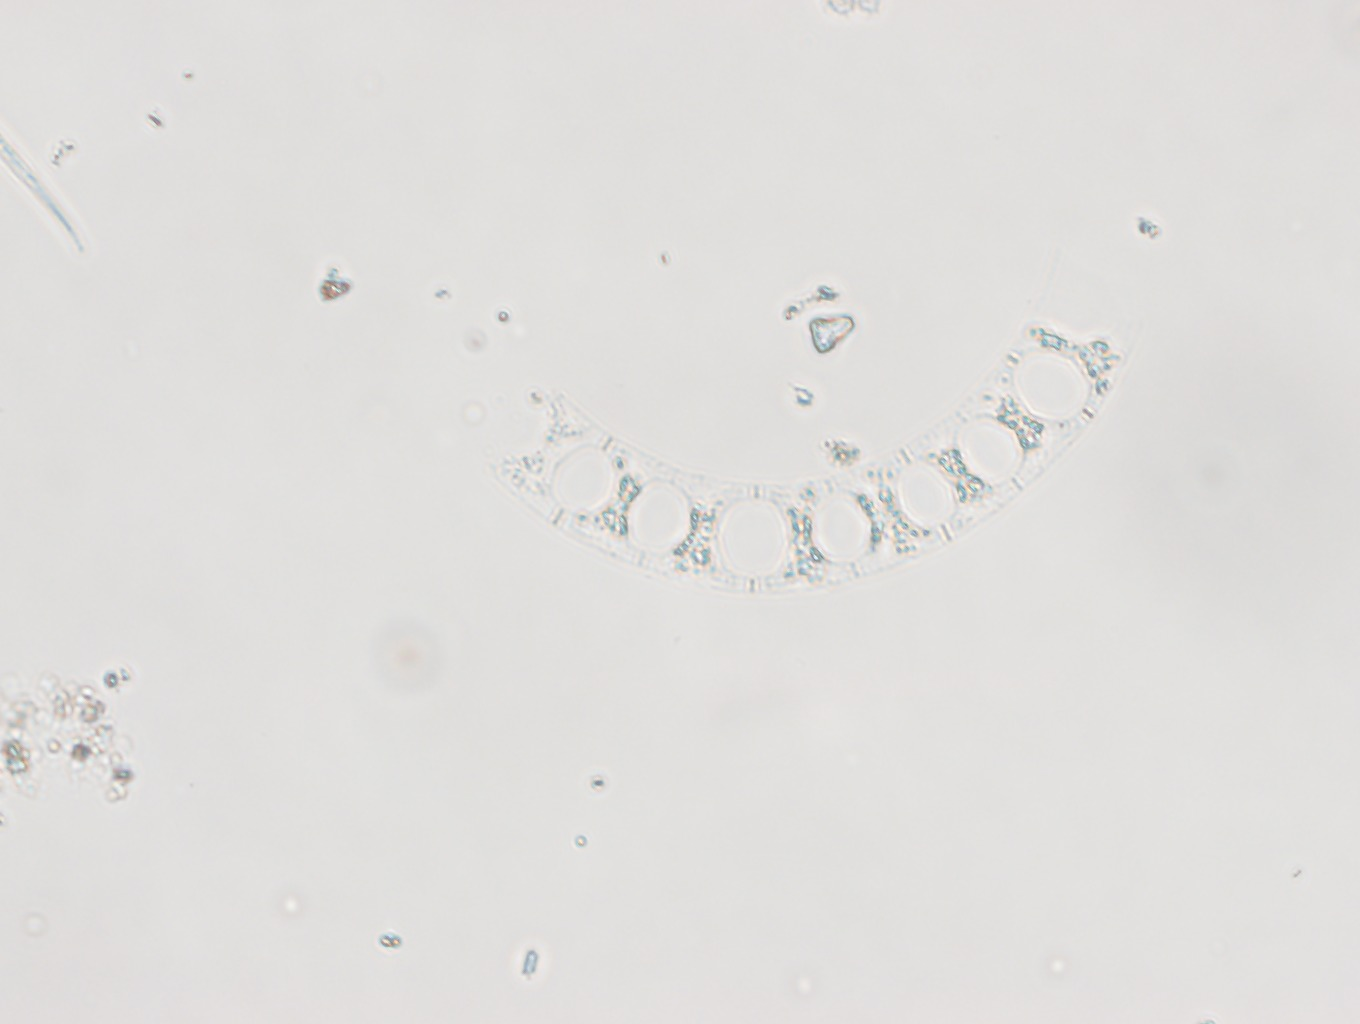eucampia: (486, 318, 1143, 595)
